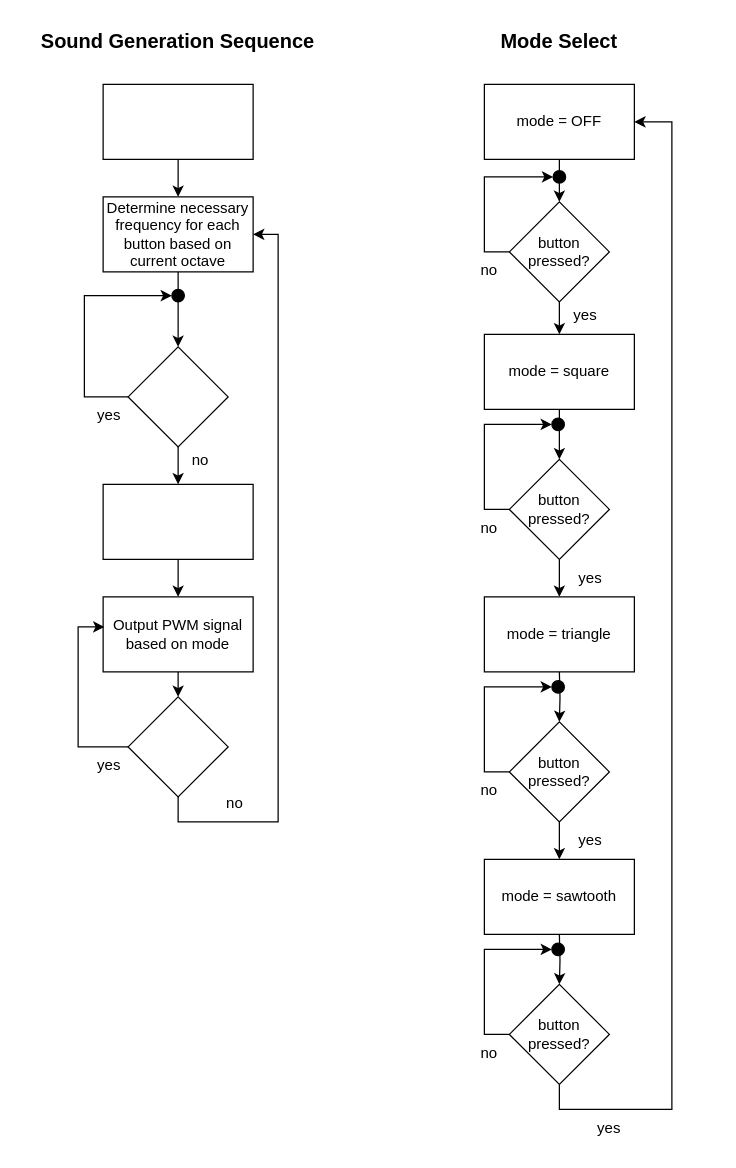
The diagram is 736 pixels wide and 1168 high, and some of its shapes have lost their labels. The box of each missing label's shape, as (x1, y1, x2, y2) in pixels:
buttons still pressed?: (127, 696, 228, 797)
Mix all signals using pushed buttons: (102, 483, 253, 559)
mode == off: (127, 346, 228, 447)
Reset all registers: (102, 83, 253, 159)
